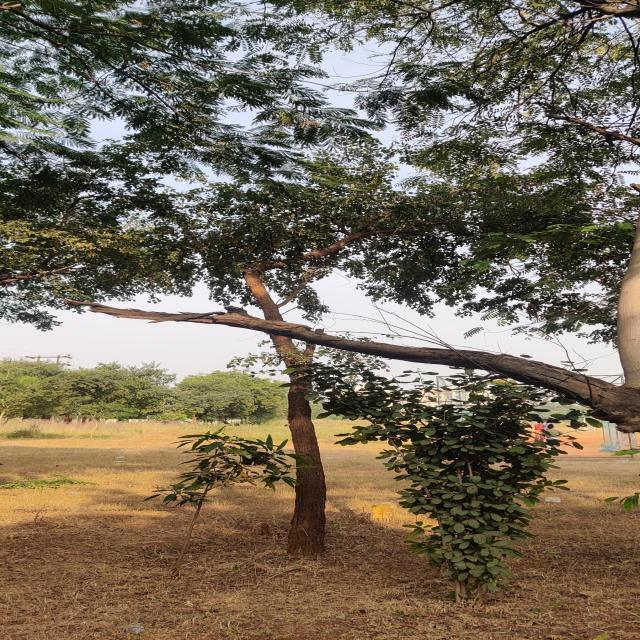Devakanchan tree: (1, 173, 594, 309), (343, 378, 568, 584)
Mango Tree: (154, 428, 300, 516)
Neem Tree: (190, 375, 281, 418)
